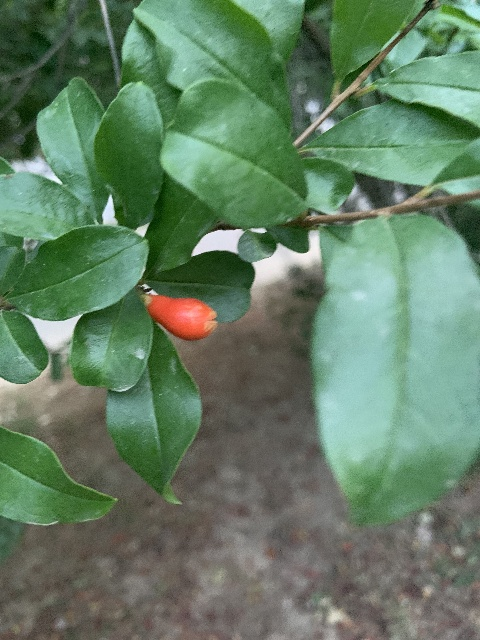bud: (145, 294, 217, 340)
